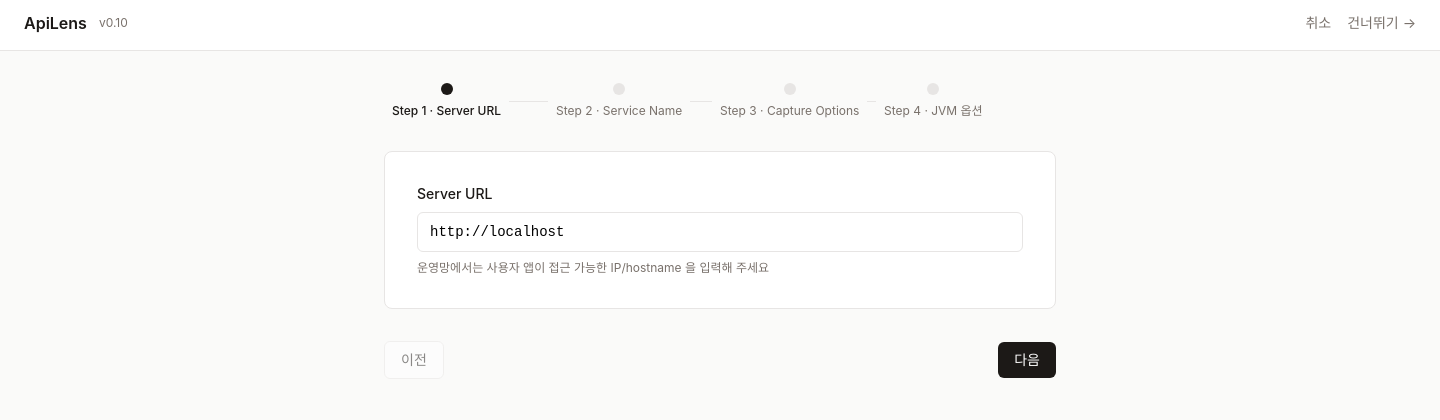
it: Setup wizard — [R10] 회수 검증 › displaysServiceNameInstructionInPoliteForm — Step 2 1차 안내 + 2차 보조 박힘 (V-USER-R10-02)
# Step 1 → Step 2 이동 (default value 가 valid 이므로 [다음] 활성)
Step 1. Click the button "다음" → (1027, 360), box [998,342,1056,378]
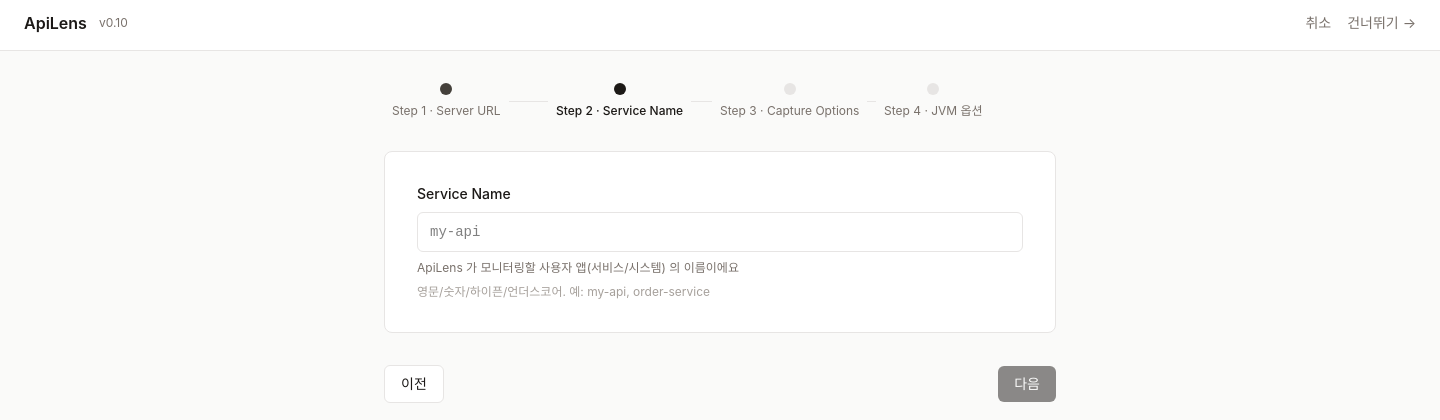
Expected: the text "ApiLens 가 모니터링할 사용자 앱(서비스/시스템) 의 이름이에요" is shown, [417,260,739,275]
Expected: the text "영문/숫자/하이픈/언더스코어. 예: my-api, order-service" is shown, [417,284,710,299]
